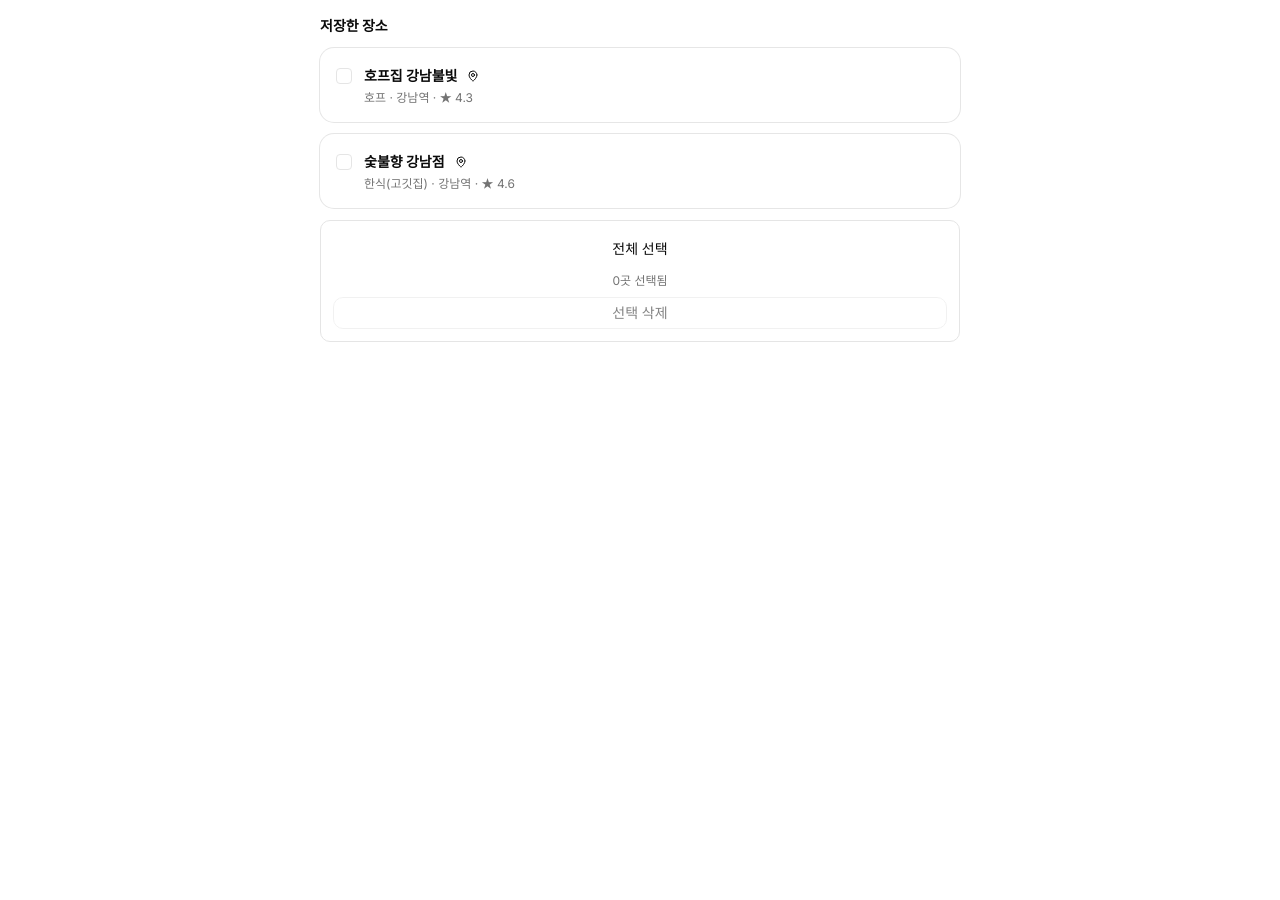
Scenario: SavedList › 장소 하나 체크 후 선택 삭제 → 그 장소만 개별 DELETE로 삭제된다
The image size is (1280, 900).
Click the checkbox named "호프집 강남불빛 선택" at {"x": 344, "y": 76}, box left=336, top=68, right=352, bottom=84
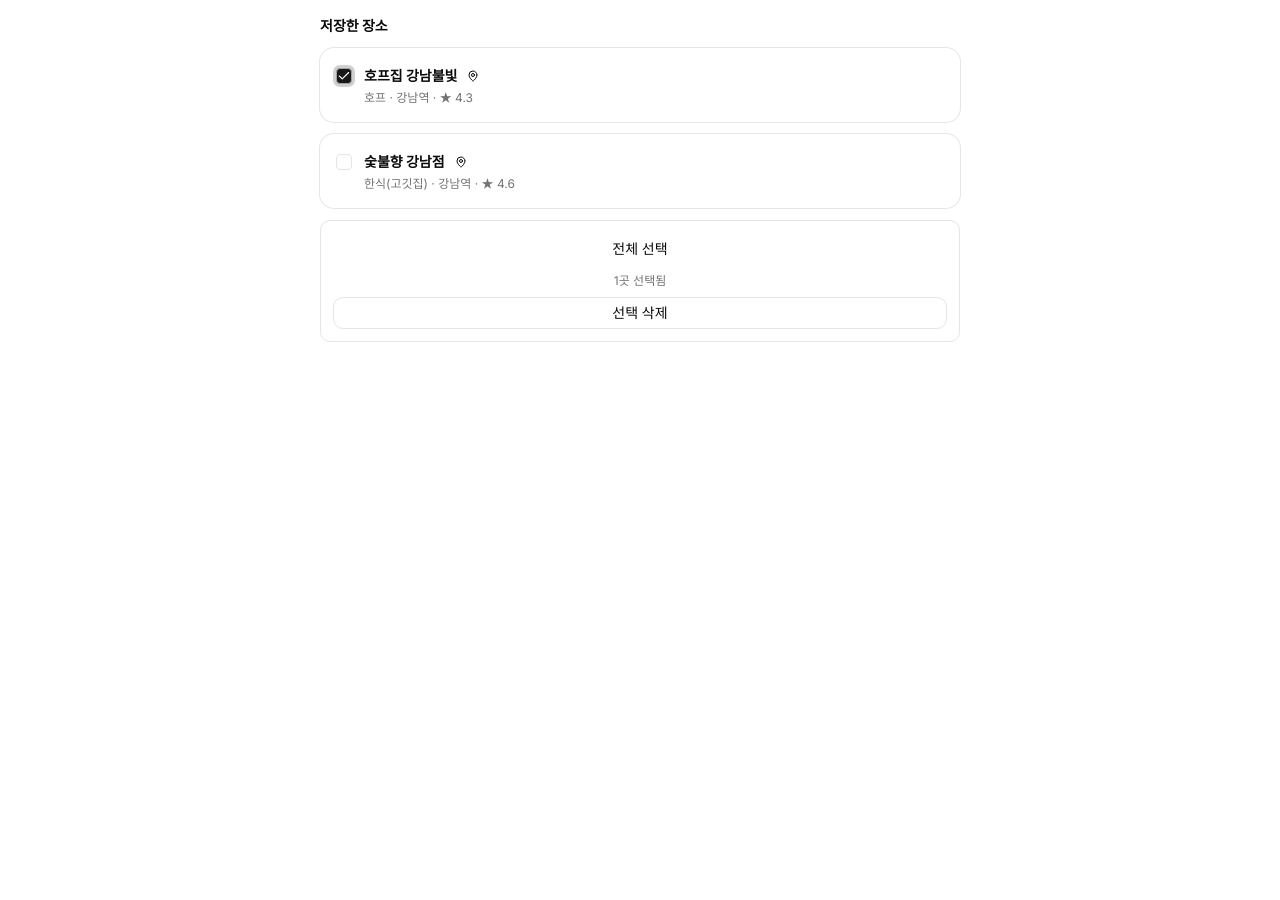
Click the button "선택 삭제" at {"x": 640, "y": 313}, box left=333, top=297, right=947, bottom=329
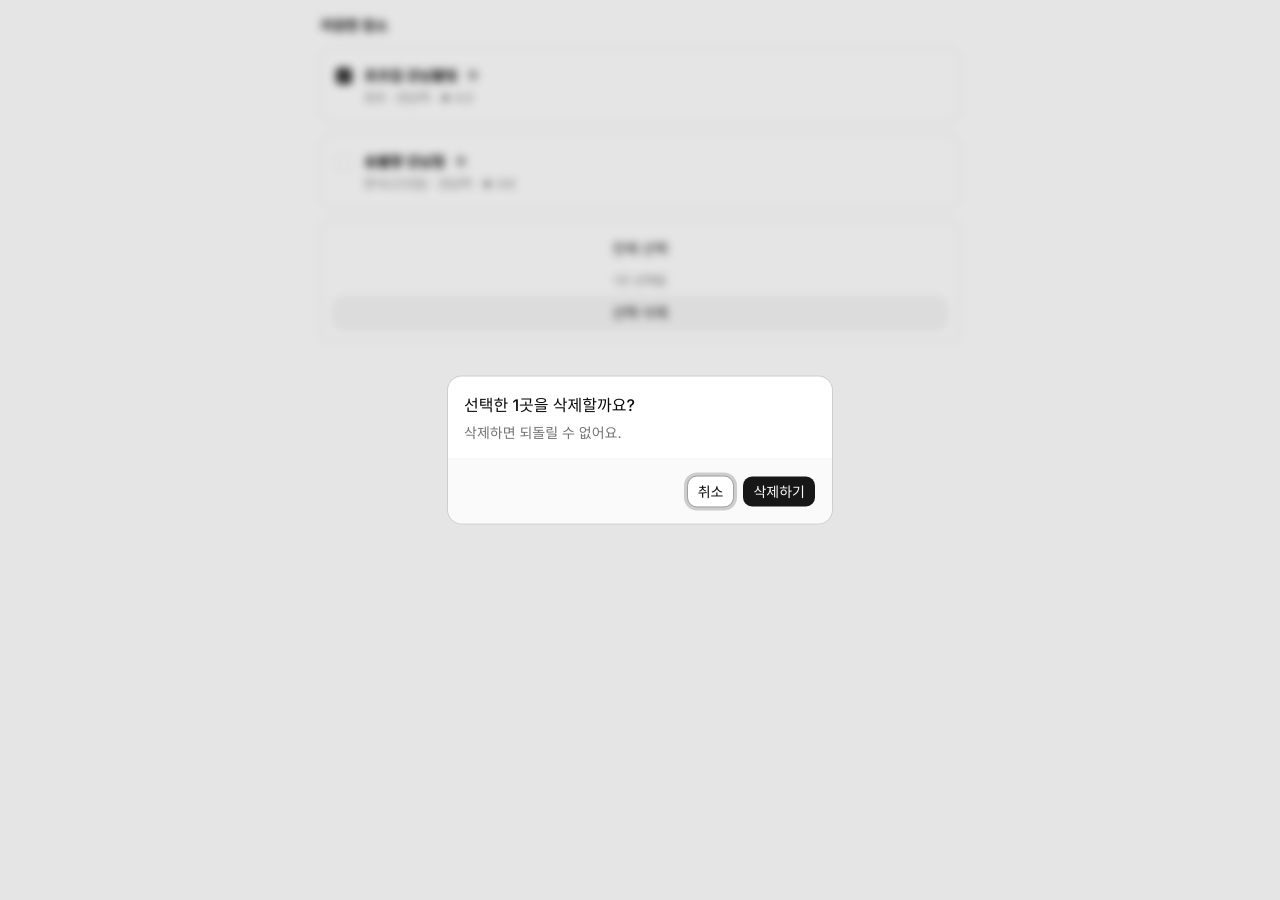
Click the button "삭제하기" at {"x": 779, "y": 492}, box left=742, top=476, right=816, bottom=508
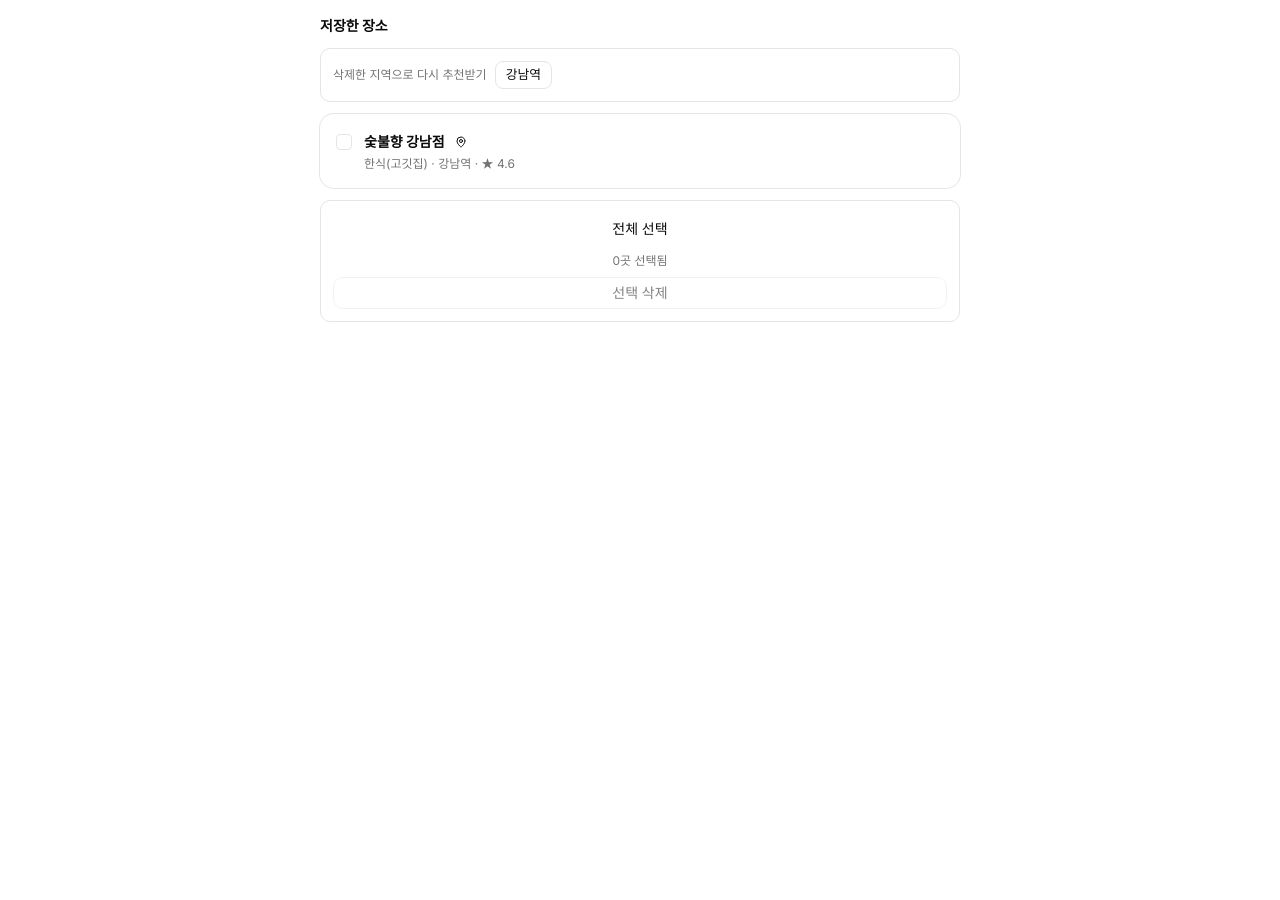
Expected: the text "숯불향 강남점" is shown, left=364, top=132, right=445, bottom=152
Expected: the text "호프집 강남불빛" is gone
